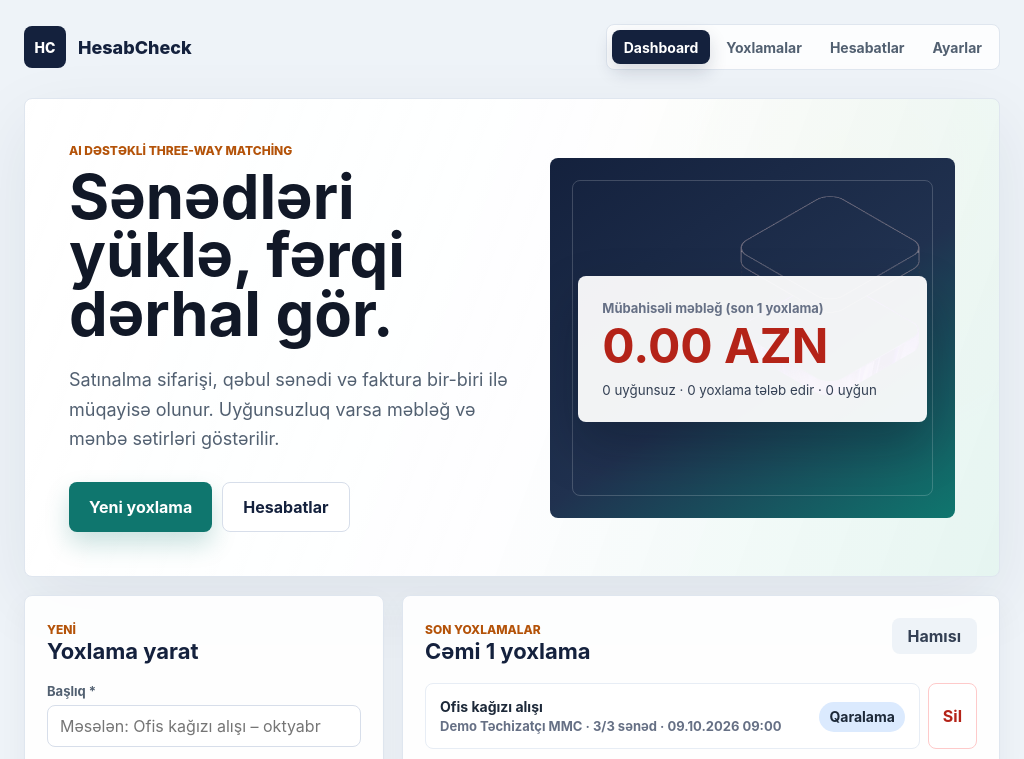
Test case: Yoxlamalar › siyahıdan yoxlamanı açır və geri qayıdır
Step 1. Click the button "Yoxlamalar" → click(764, 47), box [714,30,814,64]
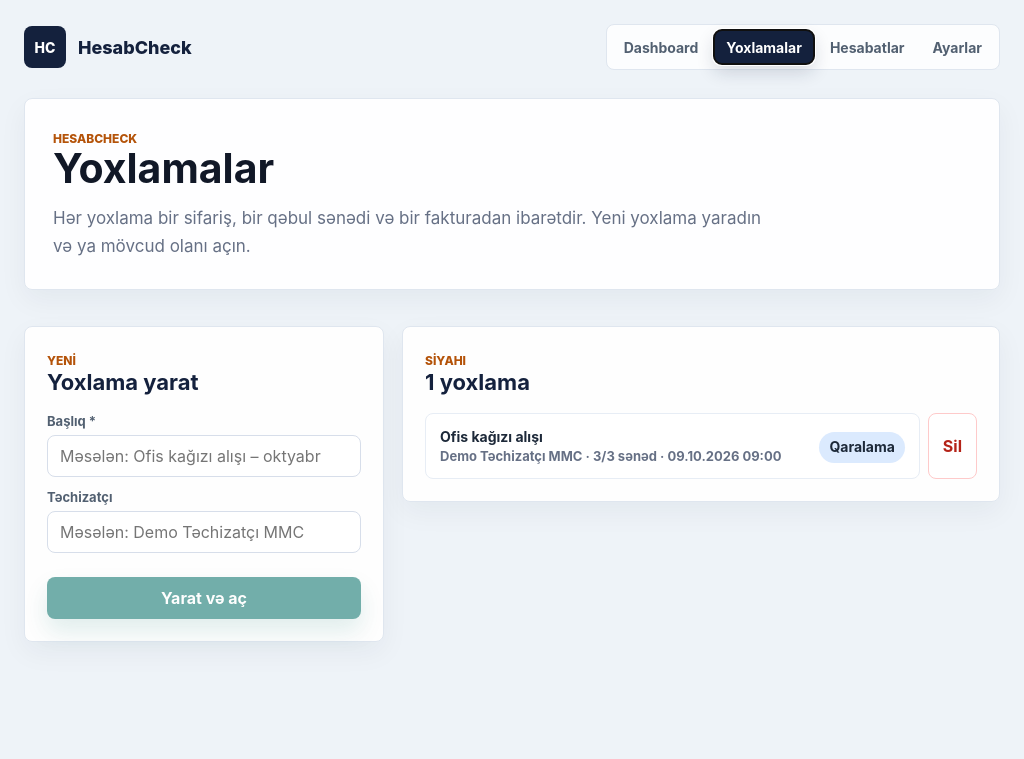
Step 2. Click the button that starts with "Ofis kağızı alışı" → click(672, 446), box [425,413,920,479]
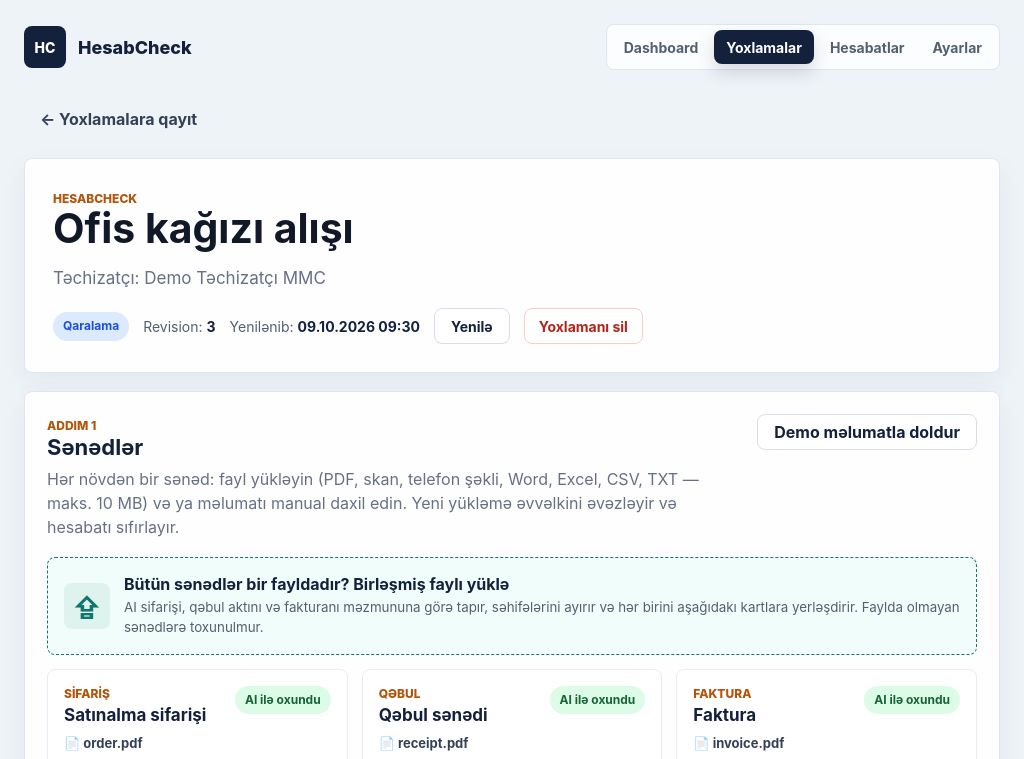
Check: the heading "Ofis kağızı alışı" is shown, box [53,203,354,253]
Step 3. Click the button "← Yoxlamalara qayıt" → click(119, 119), box [24,98,213,140]
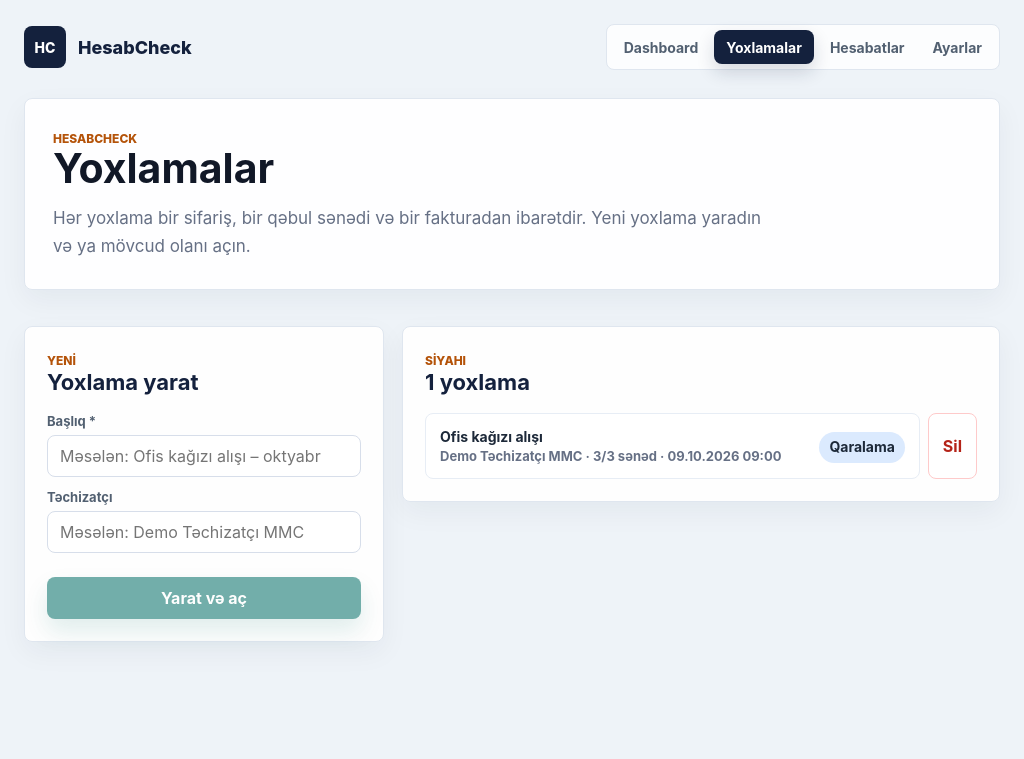
Check: the heading "Yoxlamalar" is shown, box [53,143,274,193]
